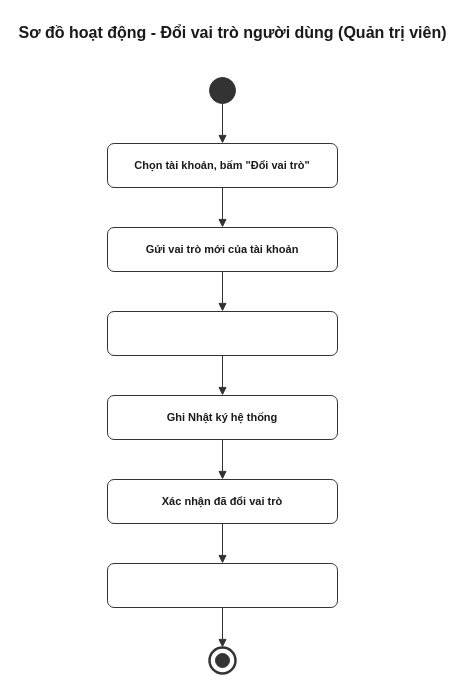
This 464x692 diagram has some shape labels left out. The shapes that lost their labels are listed below. From the top down, each one's centre as x and y in pixels, then its label:
At point (222, 333): "Cập nhật vai trò của tài khoản".
At point (222, 585): "Hiện vai trò mới trong bảng người dùng".
